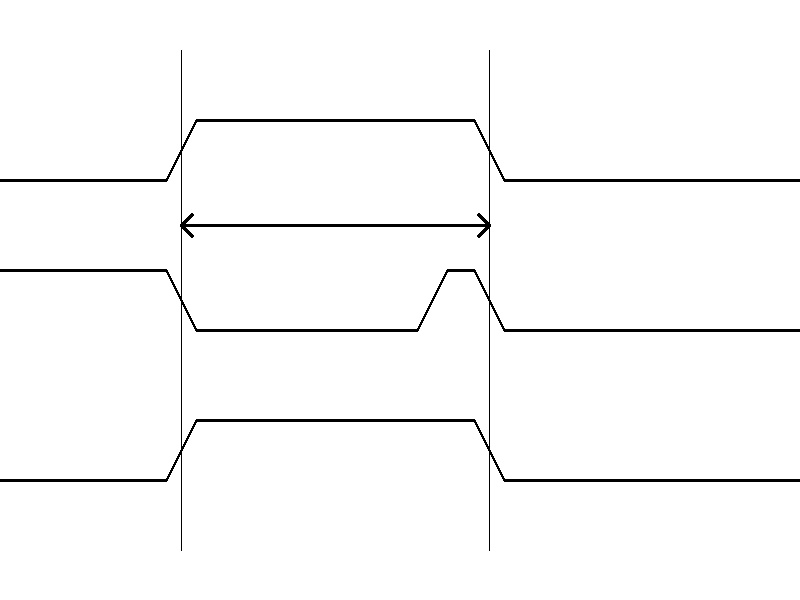double_arrow: (181, 210, 489, 240)
